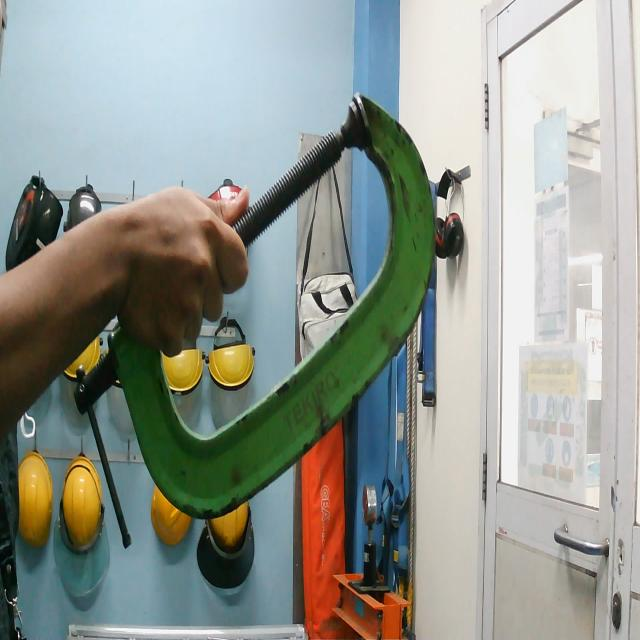tekiro_c_clamp: (60, 48, 459, 588)
